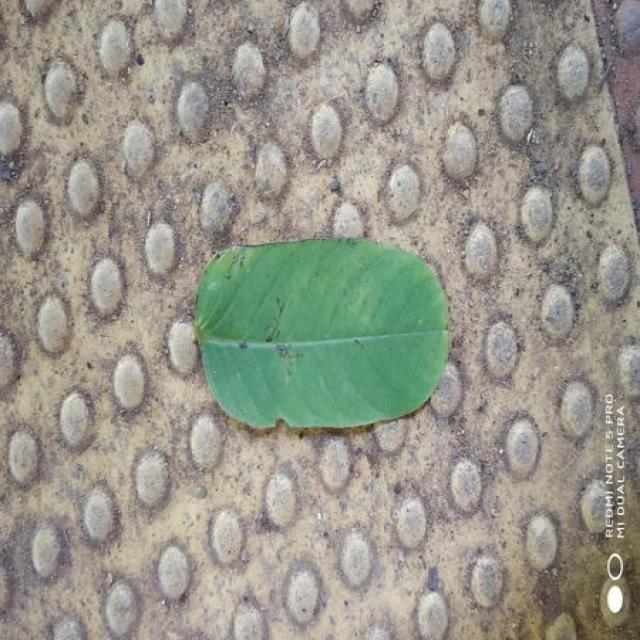disease in leaf: (197, 239, 448, 428)
